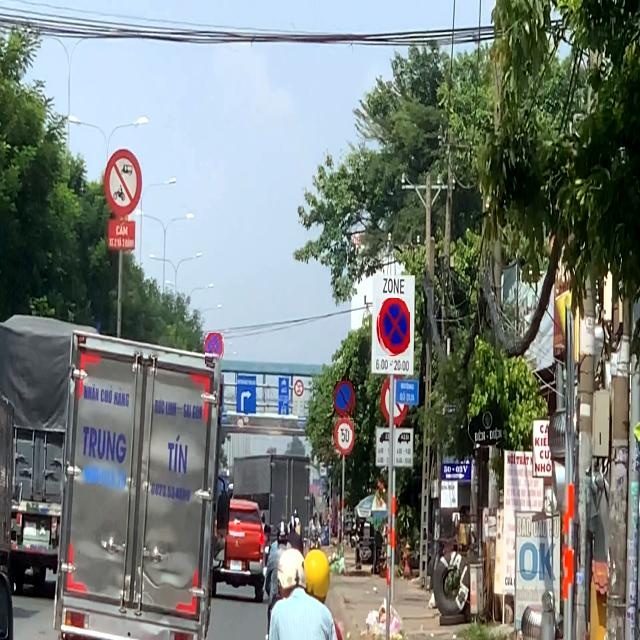bien_cam: (376, 298, 410, 356), (334, 418, 354, 455), (334, 382, 354, 418), (205, 334, 224, 366), (237, 416, 244, 430)
